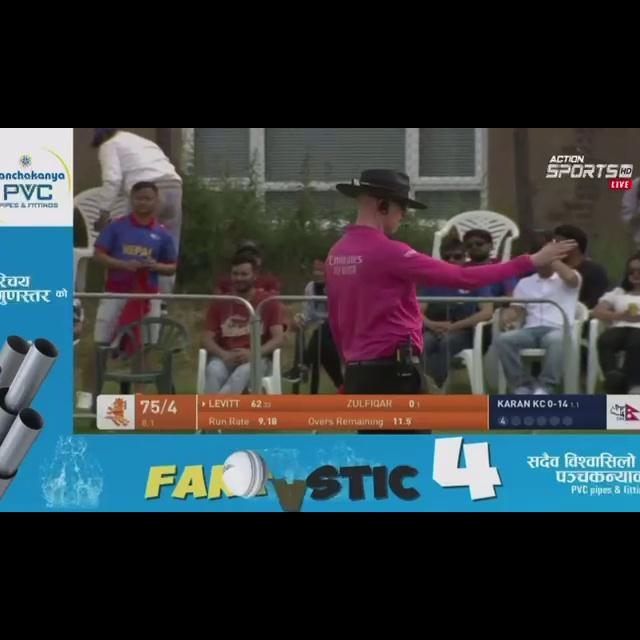umpire: (270, 136, 581, 379)
